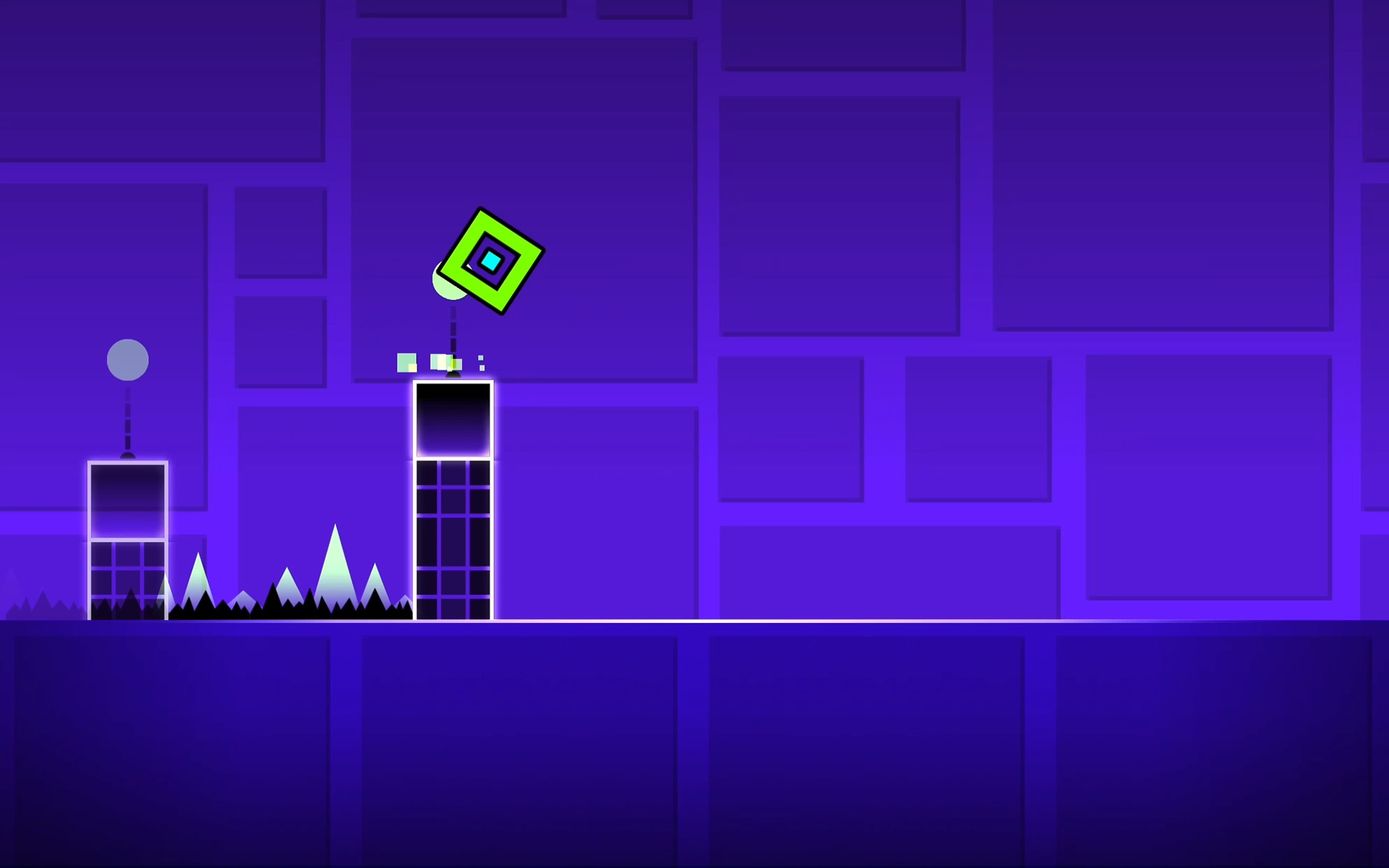Block: (88, 461, 168, 539), (414, 381, 492, 458)
Block2: (417, 461, 492, 621), (89, 541, 168, 620)
Player: (433, 208, 543, 312)
Spike3: (172, 590, 413, 622)
